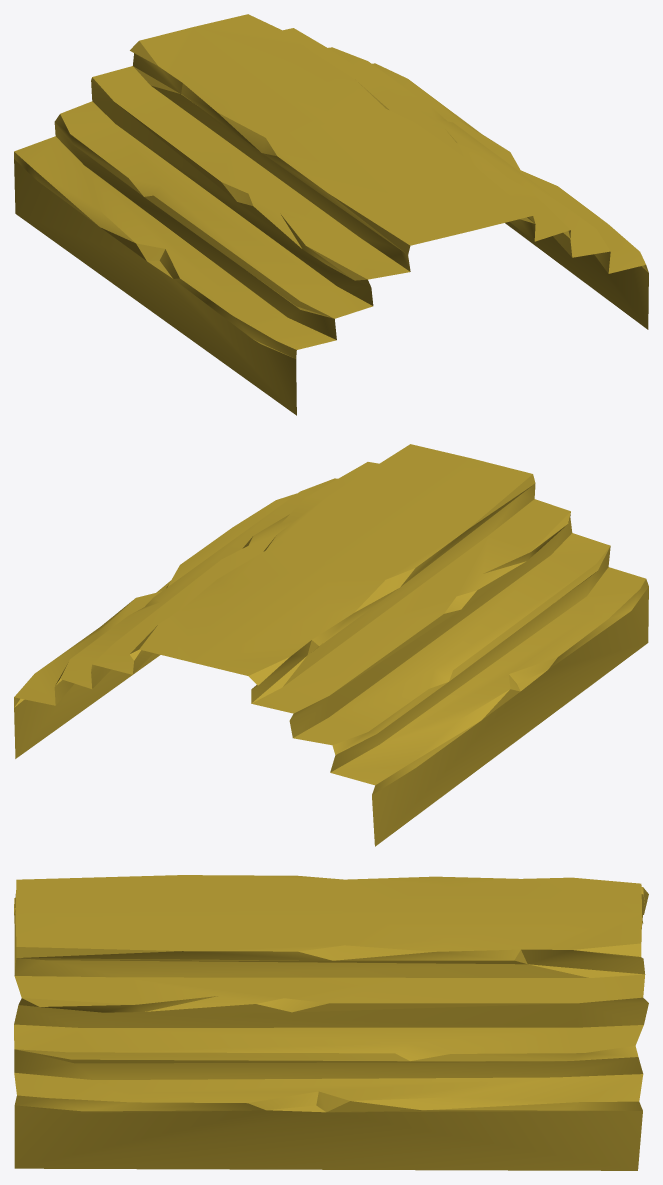
Rendered from SM_alterstair.fbx.
The picture shows the model from 3 angles, top to bottom: view 1: azimuth 30°, elevation 25°; view 2: azimuth 150°, elevation 25°; view 3: azimuth 270°, elevation 25°; orthographic projection. The views are drawn at different scales.
Visible parts, largest first — view 1: SM_alterstair; view 2: SM_alterstair; view 3: SM_alterstair.
Boxes of the visible parts, box(x1,y1,x2,y2) form: SM_alterstair: box(14, 14, 648, 415); SM_alterstair: box(14, 444, 648, 846); SM_alterstair: box(14, 875, 648, 1170).
Bounding box in the file's own units: 302 × 108 × 387.
